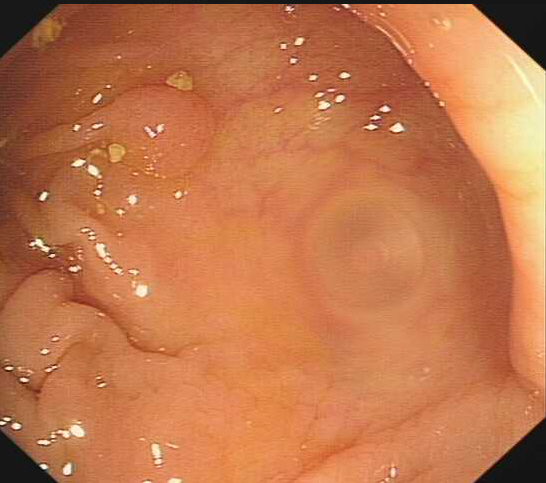others: (108, 78, 216, 180)
